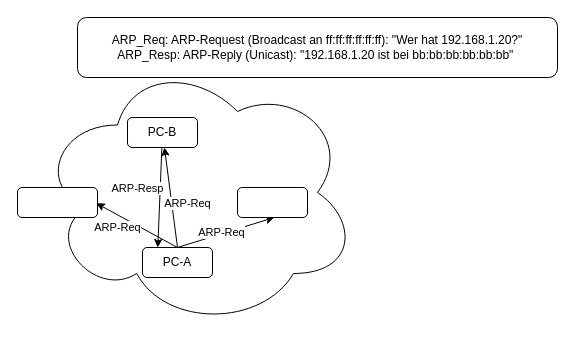
Image size: 575x345. Some labels were removed from this diagram. The centre of each missing label's shape, as x and y in pixels:
"PC-C" belongs at point 272,202.
"Router" belongs at point 57,202.
